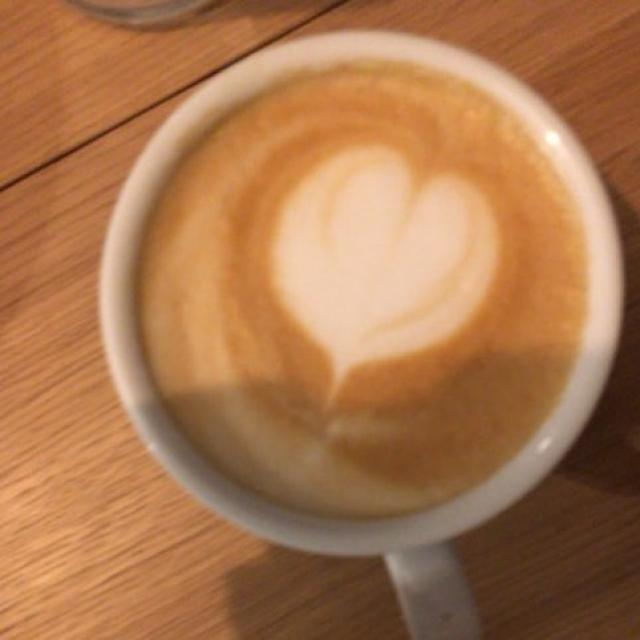cappuccino: (141, 68, 589, 504)
